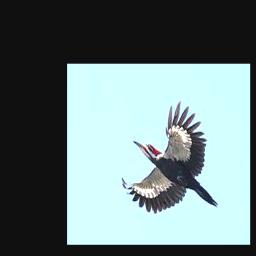Woodpecker: (122, 100, 218, 213)
